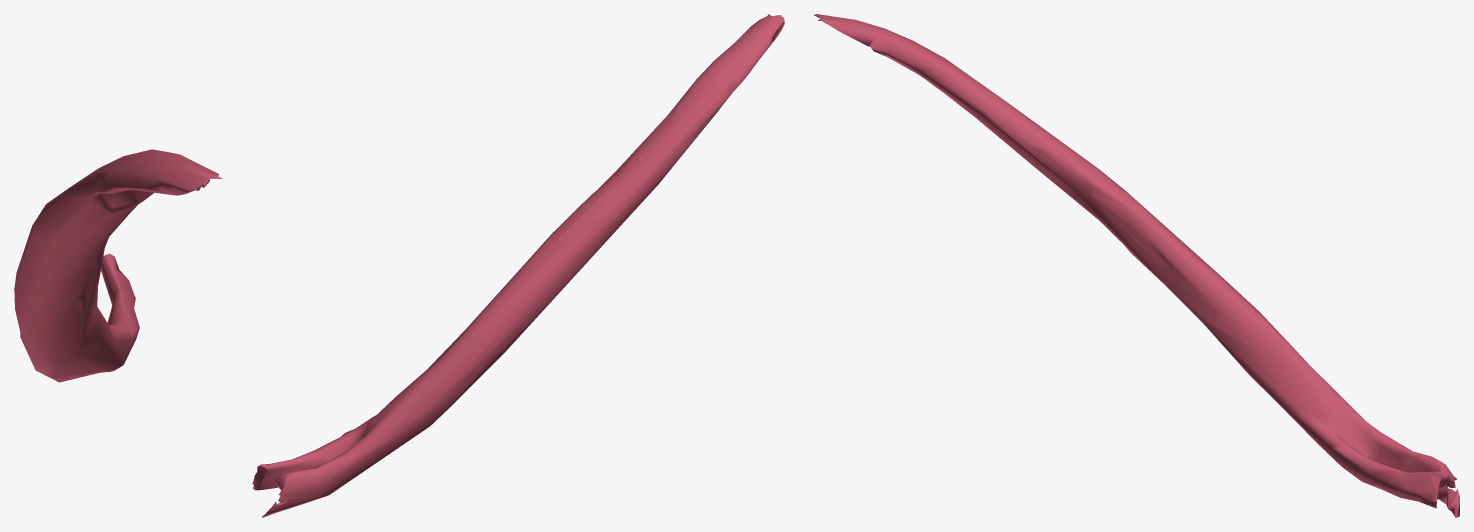
The picture shows the model from 3 angles, left to right: view 1: azimuth 30°, elevation 25°; view 2: azimuth 150°, elevation 25°; view 3: azimuth 270°, elevation 25°; orthographic projection. The views are drawn at different scales.
Visible parts, largest first — view 1: 右侧茎突舌骨肌; view 2: 右侧茎突舌骨肌; view 3: 右侧茎突舌骨肌.
Boxes of the visible parts, x1=… form: 右侧茎突舌骨肌: x1=14, y1=149, x2=222, y2=382; 右侧茎突舌骨肌: x1=252, y1=14, x2=784, y2=517; 右侧茎突舌骨肌: x1=813, y1=14, x2=1459, y2=517.
Bounding box in the file's own units: 0.0466 × 0.0601 × 0.0925.
